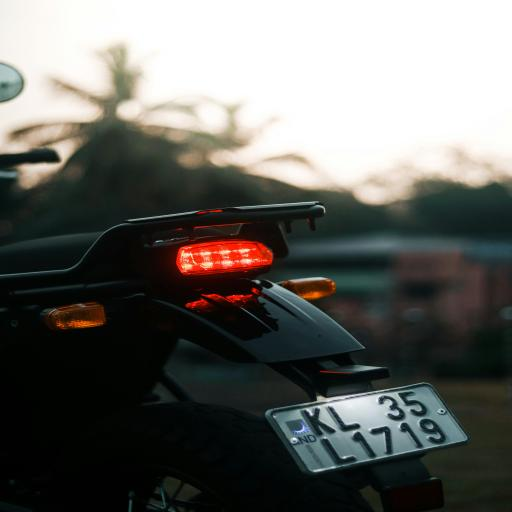place: (272, 386, 468, 460)
